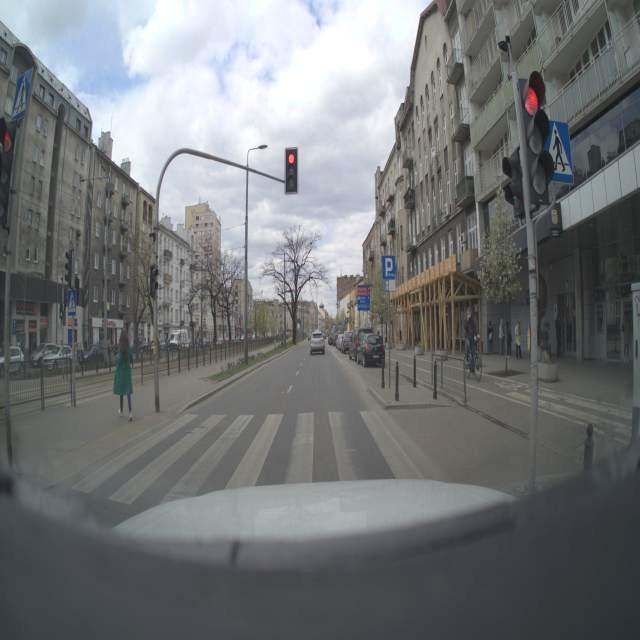Red: (513, 60, 560, 209), (283, 144, 301, 198)
